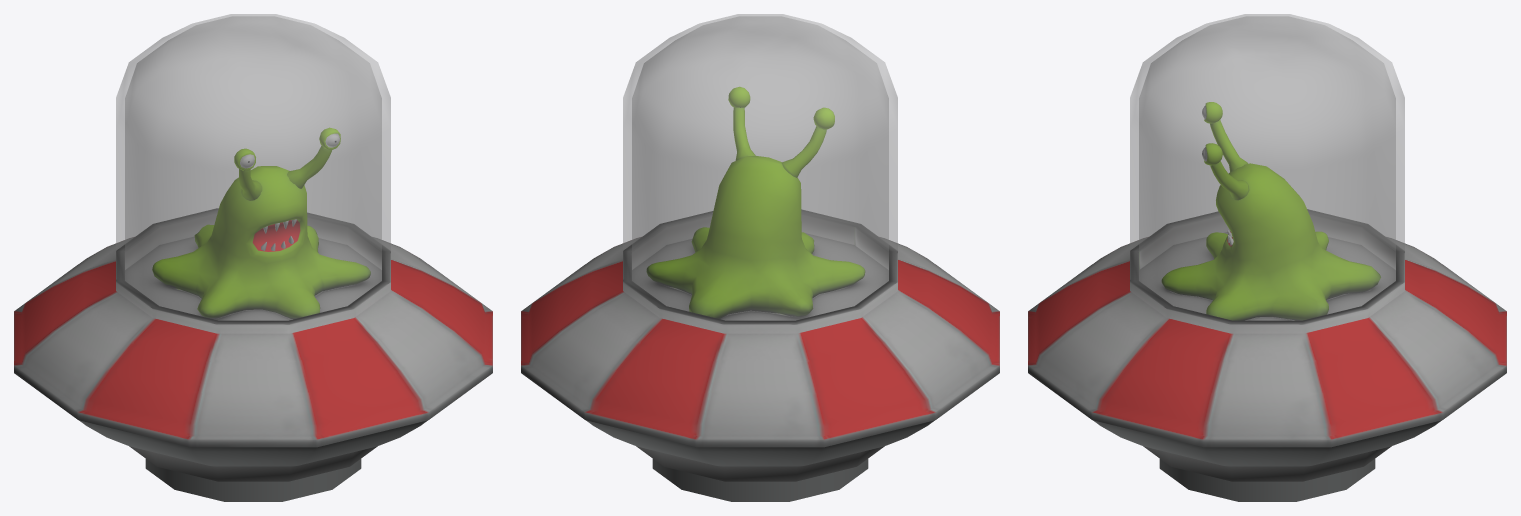
File: ufo.glb
3 views of the same model, side by side, from view 1: azimuth 30°, elevation 25°; view 2: azimuth 150°, elevation 25°; view 3: azimuth 270°, elevation 25° (orthographic).
Parts seen in each view (by area): view 1: Cylinder, Cylinder.001; view 2: Cylinder, Cylinder.001; view 3: Cylinder, Cylinder.001.
Part boxes in pixels (<box>): Cylinder: <box>14,127,492,501</box>; Cylinder.001: <box>116,14,390,324</box>; Cylinder: <box>521,87,999,501</box>; Cylinder.001: <box>623,14,897,324</box>; Cylinder: <box>1028,102,1506,501</box>; Cylinder.001: <box>1130,14,1404,324</box>.
Size of the model in its own units: 504 by 482 by 504.
Materials: 2 (2 with a texture image).
